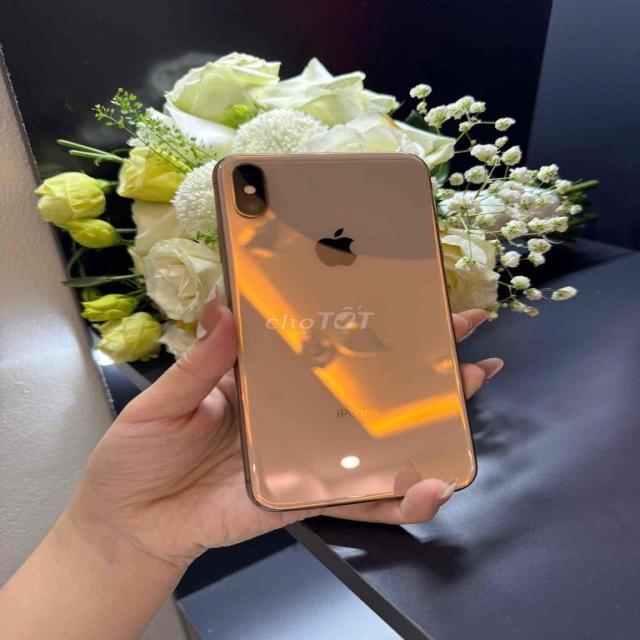gen_x_xs: (210, 144, 478, 518)
